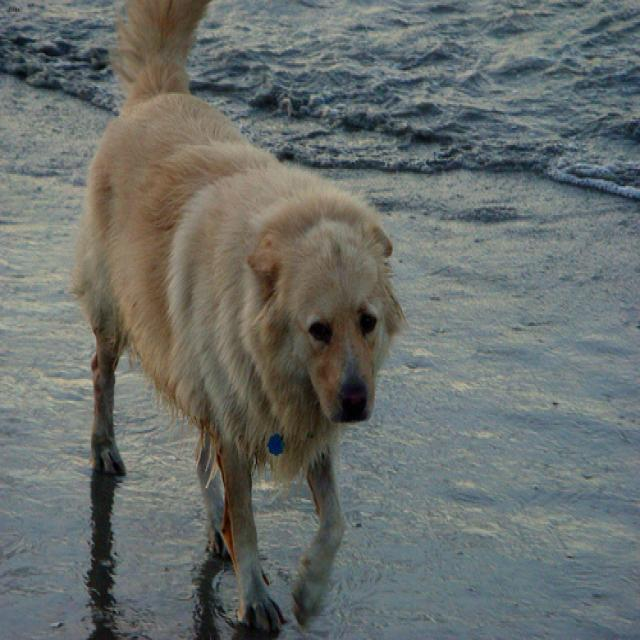dog-great_pyrenees: (59, 2, 413, 637)
